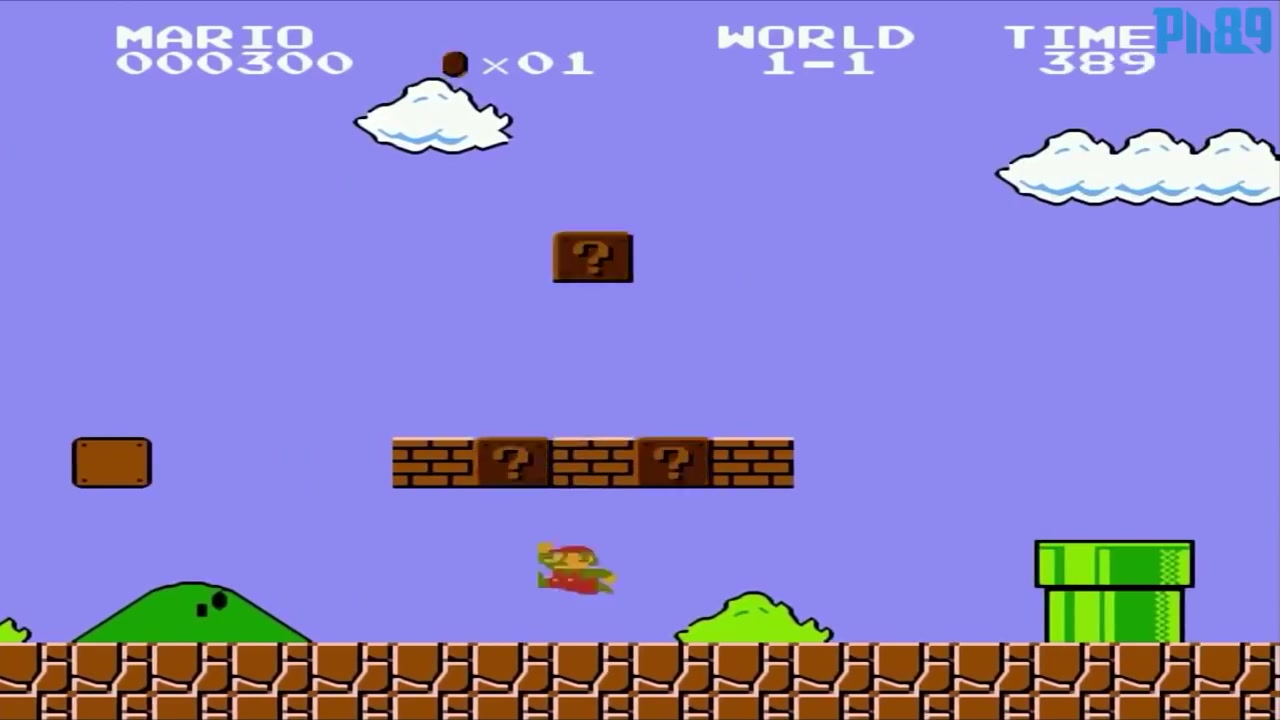mario: (532, 535, 618, 601)
